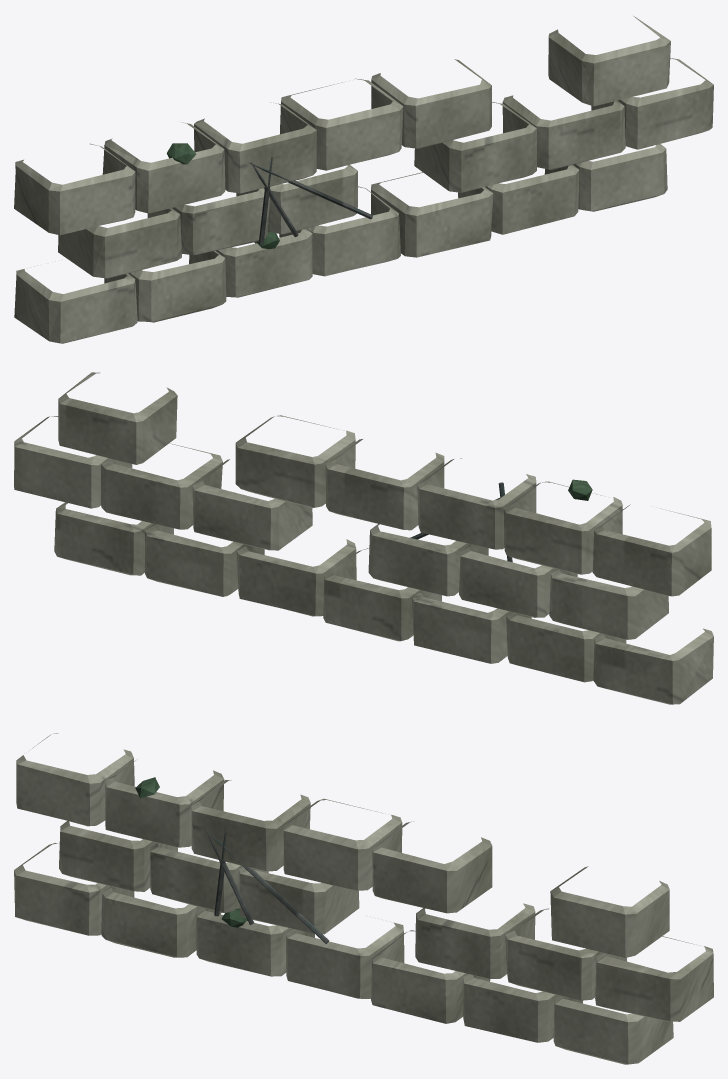
The model's file is 0332_wall_section_07.glb.
3 views of the same model, one above another, from view 1: azimuth 30°, elevation 25°; view 2: azimuth 150°, elevation 25°; view 3: azimuth 330°, elevation 25° (orthographic).
Visible parts, largest first — view 1: stone_light, iron, moss; view 2: stone_light; view 3: stone_light, iron, moss.
Boxes of the visible parts, box(x1,y1,x2,y2) form: stone_light: box(14, 16, 713, 343); iron: box(249, 157, 372, 244); moss: box(166, 143, 279, 249); stone_light: box(14, 372, 713, 704); stone_light: box(14, 733, 713, 1064); iron: box(202, 827, 329, 943); moss: box(135, 777, 247, 927).
Bounding box in the file's own units: 4.88 × 1.18 × 0.5987.
3 materials, 3 textured.
